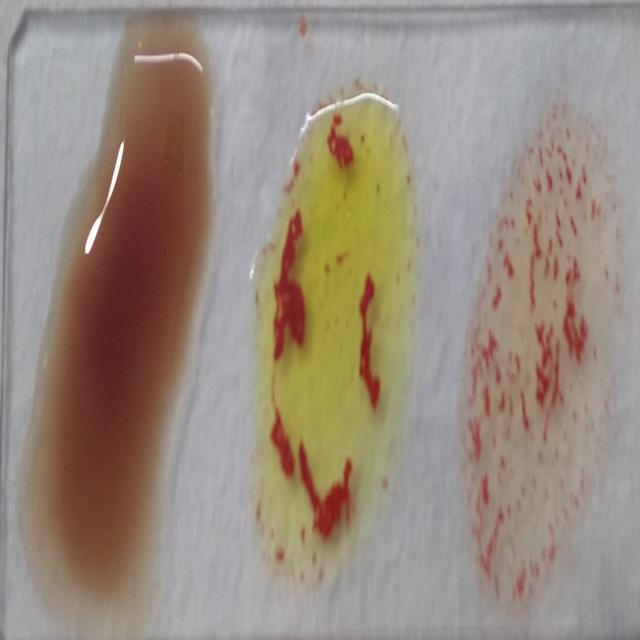B: (260, 87, 417, 586)
D: (462, 100, 618, 622)
